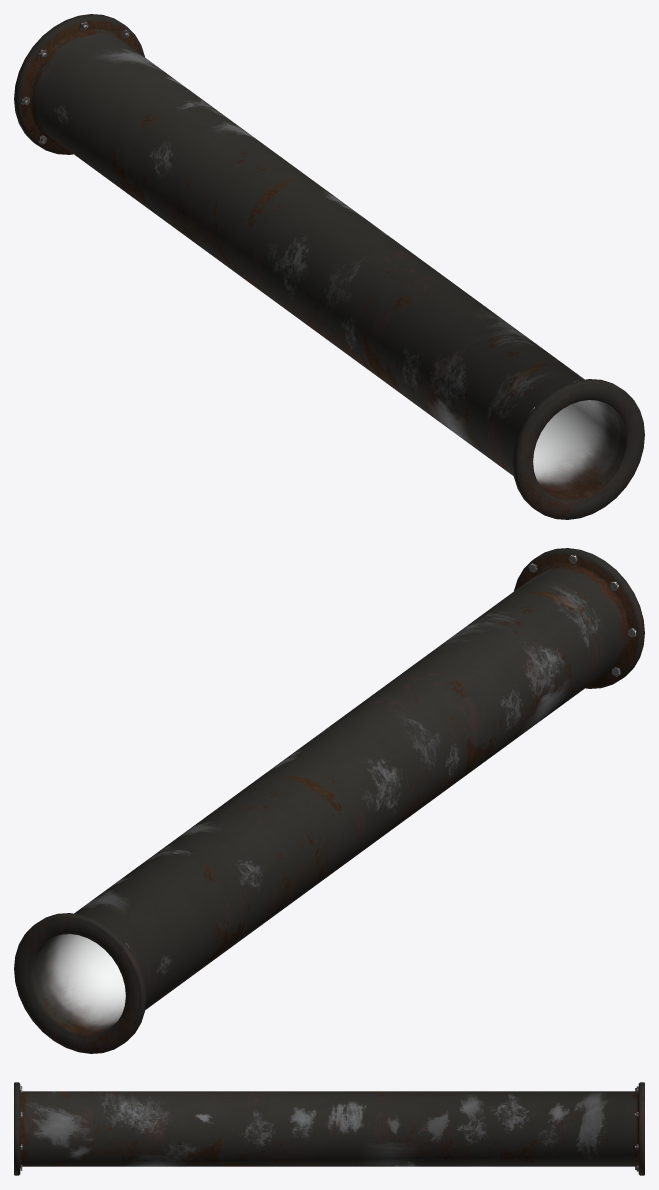
The model's file is pipe0.obj.
The picture shows the model from 3 angles, top to bottom: view 1: azimuth 30°, elevation 25°; view 2: azimuth 150°, elevation 25°; view 3: azimuth 270°, elevation 25°; orthographic projection. The views are drawn at different scales.
Visible parts, largest first — view 1: straight_lo_meshId0_name; view 2: straight_lo_meshId0_name; view 3: straight_lo_meshId0_name.
Part boxes in pixels (x1=…): straight_lo_meshId0_name: x1=14, y1=14, x2=644, y2=519; straight_lo_meshId0_name: x1=14, y1=548, x2=644, y2=1053; straight_lo_meshId0_name: x1=14, y1=1082, x2=644, y2=1175.
Size of the model in its own units: 1.21 by 1.21 by 8.15.
3 materials, 3 textured.
